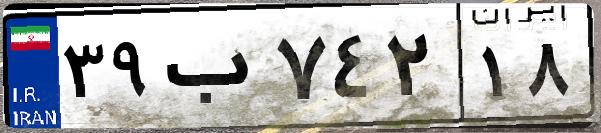1: (475, 38, 525, 113)
2: (385, 28, 445, 110)
3: (57, 26, 110, 100)
4: (330, 28, 385, 110)
7: (270, 28, 330, 110)
8: (525, 38, 570, 115)
9: (110, 28, 158, 98)
ب: (158, 20, 270, 120)
